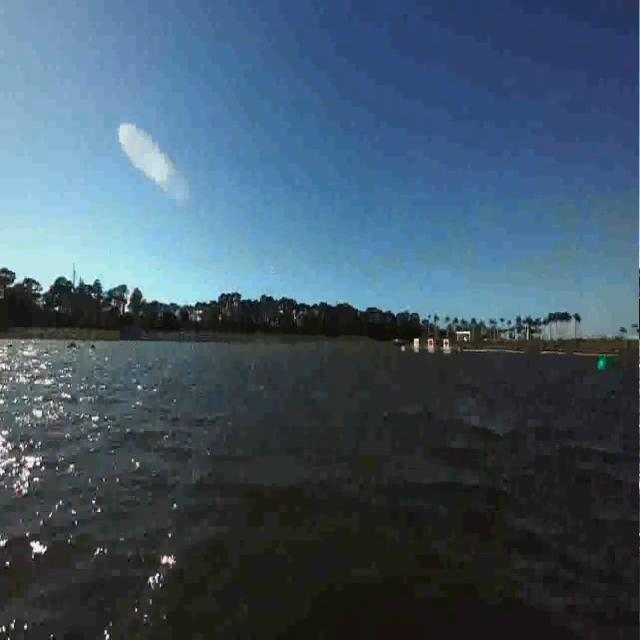green-buoy: (594, 356, 608, 372)
